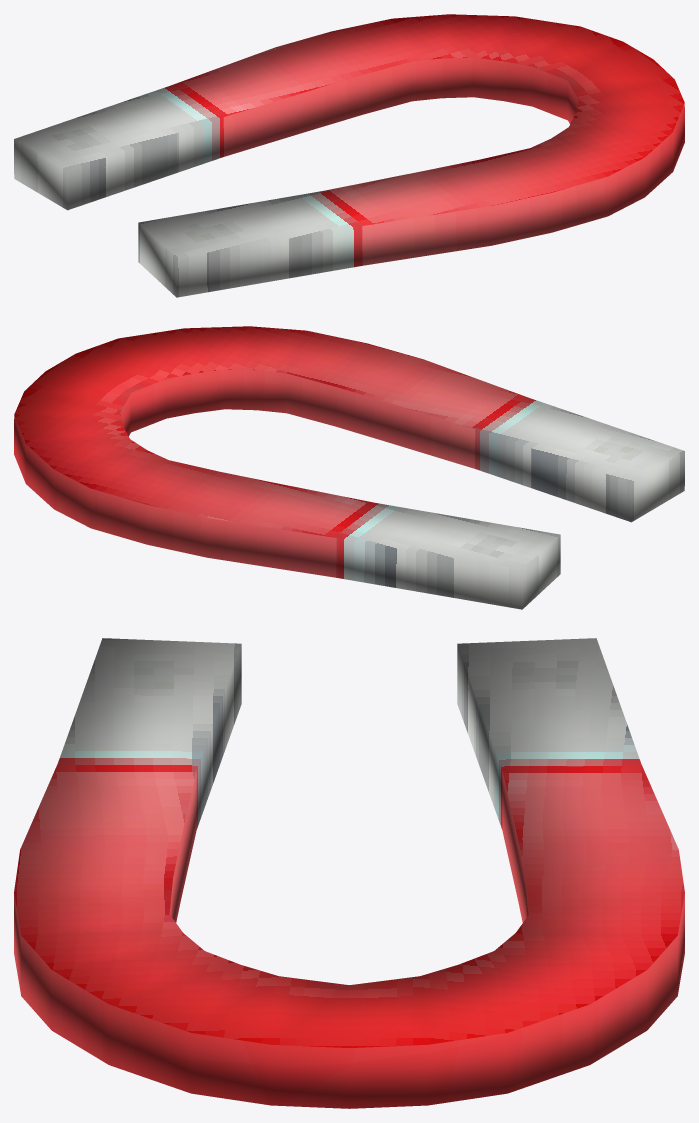
File: WorldItem_HCMagnet.fbx
3 views of the same model, one above another, from view 1: azimuth 30°, elevation 25°; view 2: azimuth 150°, elevation 25°; view 3: azimuth 270°, elevation 25° (orthographic). The views are drawn at different scales.
Visible parts, largest first — view 1: Magnet; view 2: Magnet; view 3: Magnet.
Boxes of the visible parts, x1,y1,x2,y2 form: Magnet: [14, 14, 684, 297]; Magnet: [14, 326, 684, 609]; Magnet: [14, 638, 684, 1108].
Bounding box in the file's own units: 0.2112 × 0.0154 × 0.1445.
